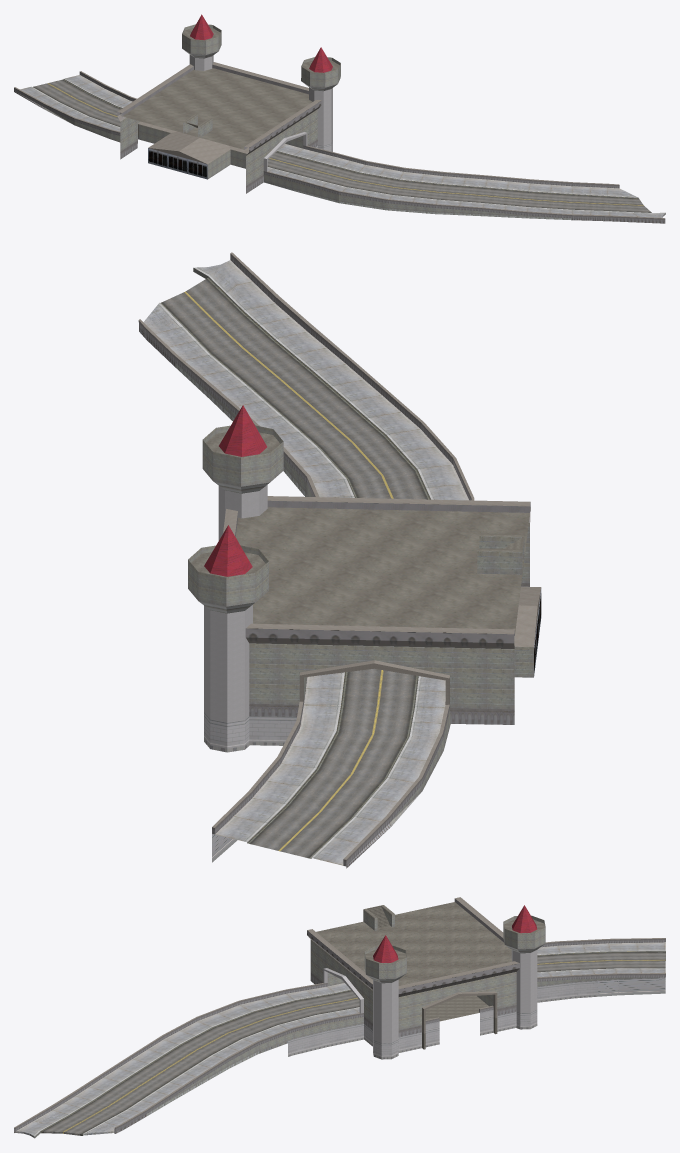
File: excalibur01_lvs.obj
3 renders of one model, top to bottom at view 1: azimuth 30°, elevation 25°; view 2: azimuth 150°, elevation 25°; view 3: azimuth 270°, elevation 25°, orthographic. The views are drawn at different scales.
Visible parts, largest first — view 1: excalibur01_lvS; view 2: excalibur01_lvS; view 3: excalibur01_lvS.
Part boxes in pixels (x1=…): excalibur01_lvS: x1=14, y1=14, x2=665, y2=223; excalibur01_lvS: x1=138, y1=252, x2=541, y2=868; excalibur01_lvS: x1=14, y1=897, x2=665, y2=1138.
Bounding box in the file's own units: 114 × 32.4 × 161.
14 materials, 14 textured.
